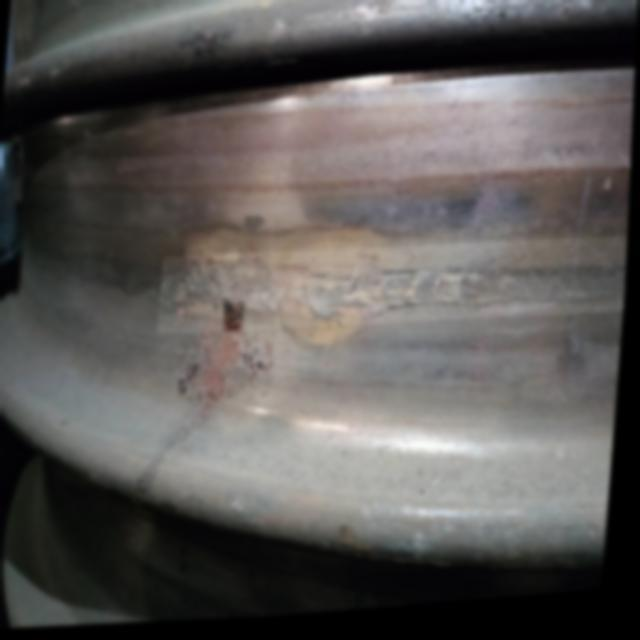Rollerpile: (161, 231, 632, 353)
